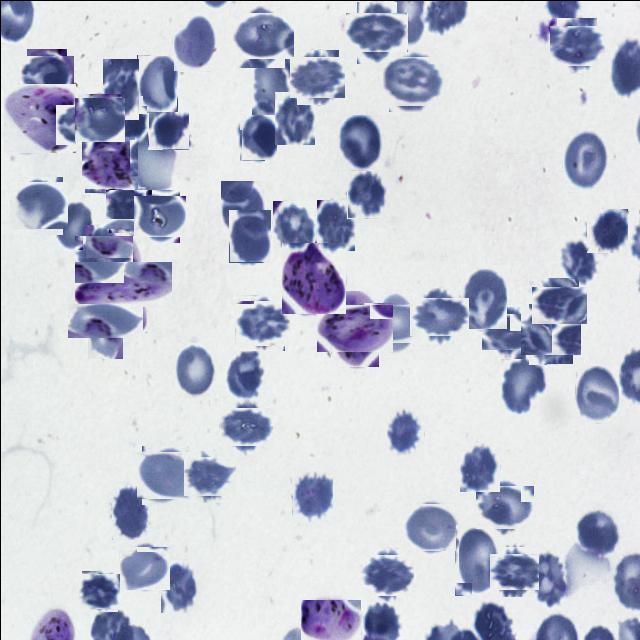difficult: (87, 248, 159, 319), (323, 297, 385, 359), (82, 137, 136, 190)
gametocyte: (281, 242, 345, 313)
red blood cell: (454, 524, 498, 595), (77, 293, 132, 348), (386, 53, 440, 109), (458, 268, 506, 329), (234, 8, 288, 62), (562, 128, 608, 190), (138, 448, 191, 501), (12, 178, 64, 232), (369, 296, 422, 348), (404, 501, 456, 554), (524, 307, 576, 359), (500, 354, 546, 412), (351, 6, 402, 57), (478, 482, 530, 532), (336, 114, 382, 170), (574, 365, 618, 423), (220, 180, 264, 238), (172, 14, 216, 71), (236, 297, 286, 347), (136, 54, 177, 113), (414, 292, 463, 341), (78, 230, 128, 278), (292, 52, 342, 100), (574, 508, 620, 560), (173, 342, 215, 398), (362, 550, 410, 598), (552, 21, 600, 69), (75, 94, 123, 142), (251, 55, 290, 114), (272, 200, 314, 254), (228, 209, 270, 262), (120, 544, 167, 591), (135, 192, 182, 239), (102, 58, 138, 119), (222, 402, 268, 449), (23, 52, 70, 98), (536, 281, 582, 328), (291, 470, 332, 522), (274, 91, 314, 144), (186, 453, 232, 499), (385, 404, 423, 459), (459, 440, 499, 490), (111, 484, 147, 539), (160, 559, 197, 612), (53, 200, 93, 249), (316, 199, 354, 250), (532, 550, 566, 607), (484, 310, 528, 354), (346, 170, 386, 218), (106, 188, 150, 230), (238, 113, 276, 161), (586, 208, 627, 252), (557, 239, 596, 285), (492, 550, 534, 592), (225, 351, 261, 397), (147, 111, 188, 149), (80, 572, 118, 610), (107, 105, 146, 140)
trophozoite: (4, 82, 74, 154), (300, 599, 360, 639)
